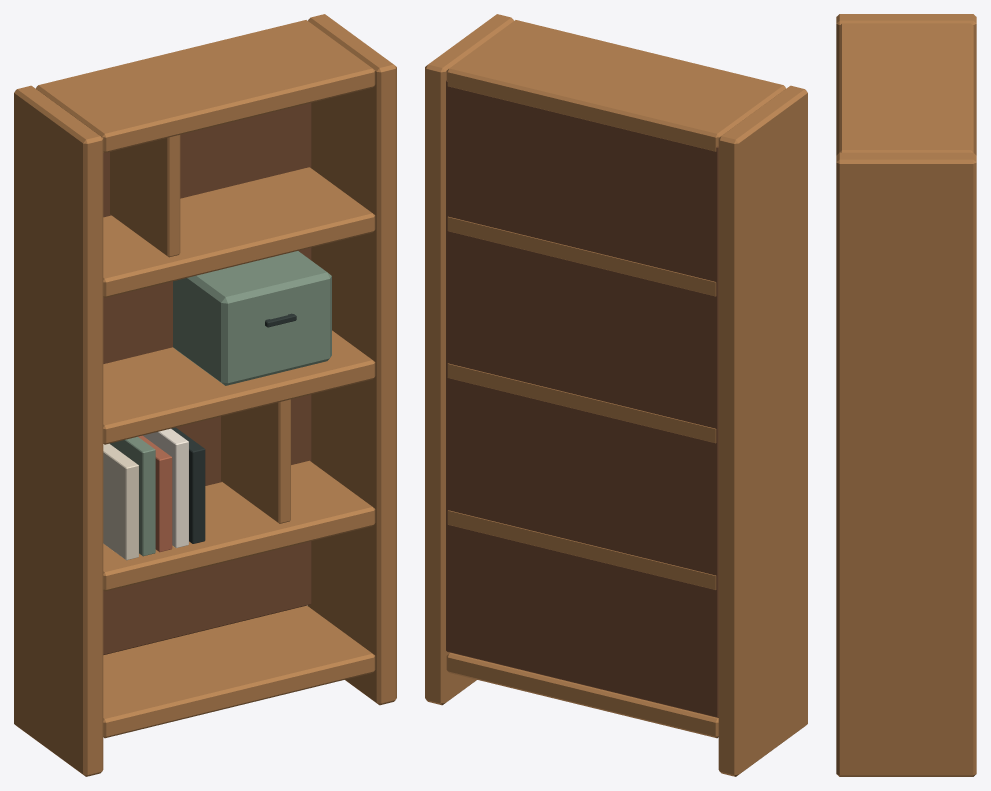
The model's file is 09_bookshelf.glb.
3 renders of one model, left to right at view 1: azimuth 30°, elevation 25°; view 2: azimuth 150°, elevation 25°; view 3: azimuth 270°, elevation 25°, orthographic. The views are drawn at different scales.
Parts seen in each view (by area): view 1: Full_height_upright, Full_height_upright.001, Inset_back, Shelf_04, Shelf_00, Shelf_03, Sage_storage_box, Shelf_02, Shelf_01, Asymmetric_divider_lower, Asymmetric_divider_upper, Decor_book_00 (+4 smaller); view 2: Inset_back, Full_height_upright, Shelf_04, Full_height_upright.001, Shelf_00, Shelf_02, Shelf_01, Shelf_03; view 3: Full_height_upright.001, Shelf_04, Full_height_upright.
Boxes of the visible parts, <box> form: Full_height_upright: <box>14,85,103,776</box>; Full_height_upright.001: <box>307,14,396,705</box>; Inset_back: <box>103,102,311,654</box>; Shelf_04: <box>36,20,375,152</box>; Shelf_00: <box>103,605,375,738</box>; Shelf_03: <box>103,167,375,297</box>; Sage_storage_box: <box>173,251,331,385</box>; Shelf_02: <box>103,330,375,444</box>; Shelf_01: <box>103,460,375,591</box>; Asymmetric_divider_lower: <box>221,399,290,523</box>; Asymmetric_divider_upper: <box>110,135,180,257</box>; Decor_book_00: <box>103,443,138,560</box>; Inset_back: <box>446,80,718,717</box>; Full_height_upright: <box>718,85,807,776</box>; Shelf_04: <box>446,20,785,151</box>; Full_height_upright.001: <box>425,14,513,705</box>; Shelf_00: <box>446,652,718,738</box>; Shelf_02: <box>447,363,716,443</box>; Shelf_01: <box>447,510,716,589</box>; Shelf_03: <box>447,216,716,296</box>; Full_height_upright.001: <box>836,152,976,776</box>; Shelf_04: <box>839,23,973,152</box>; Full_height_upright: <box>836,14,976,155</box>.
Size of the model in its own units: 0.85 by 1.65 by 0.34.
